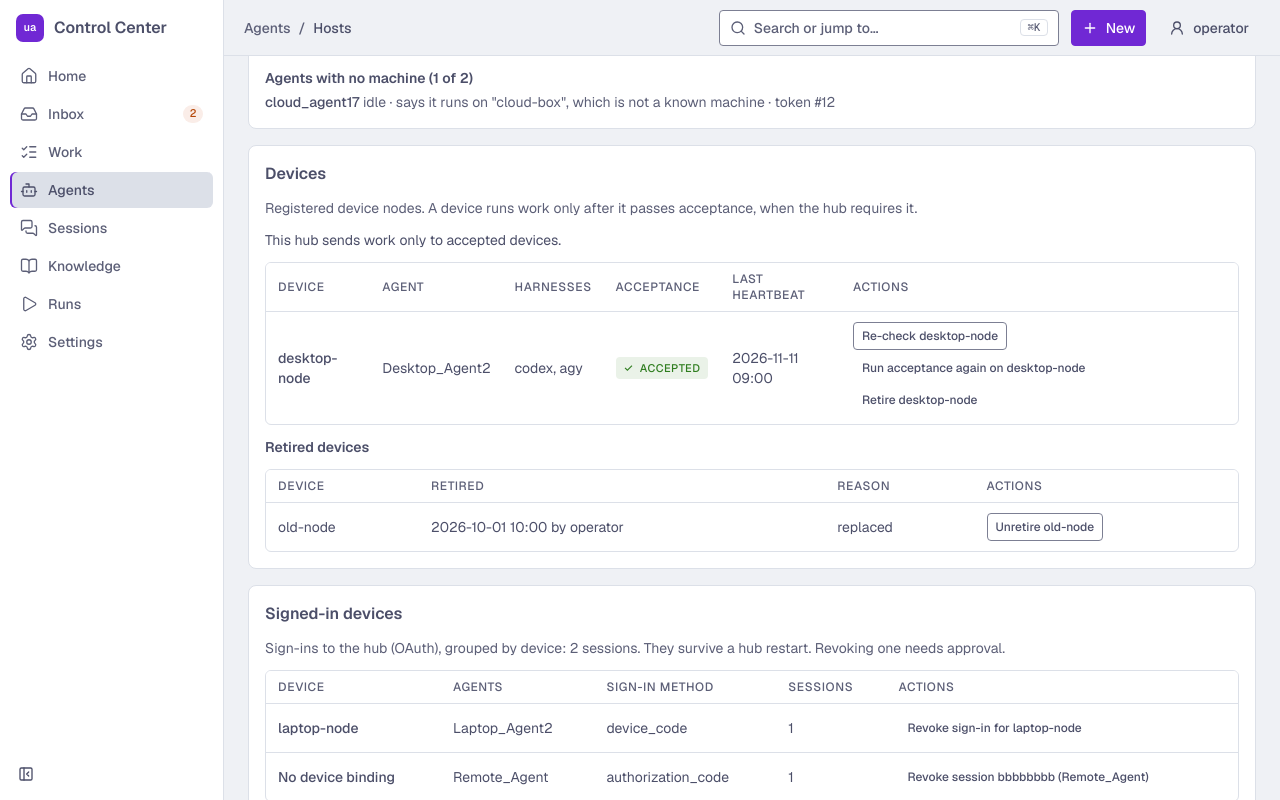
agents: hosts › a refused retire (409, work queued) is explained
(page scrolled)
Click the button "Retire desktop-node" at (920, 400), box [853,386,986,414]
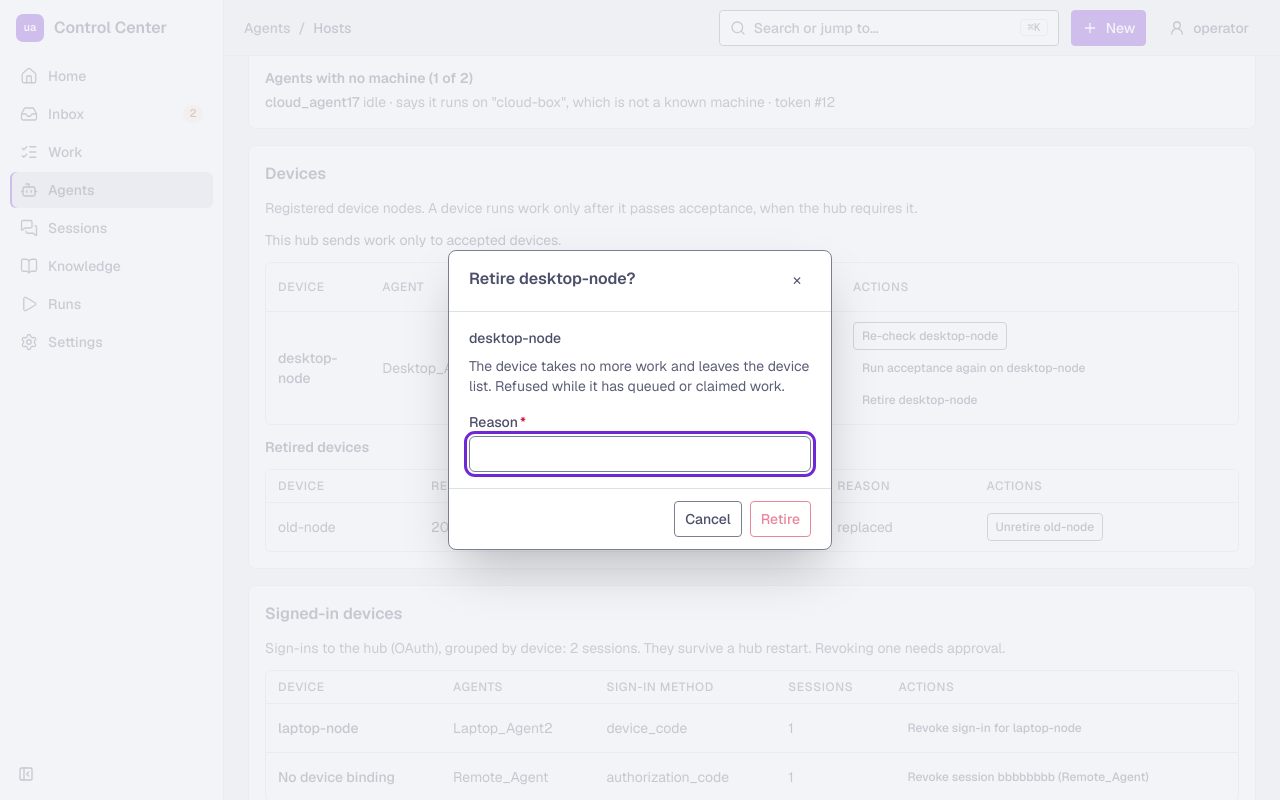
Type "moved" into the field labelled "Reason*" at (640, 454), box [469,436,811,472]
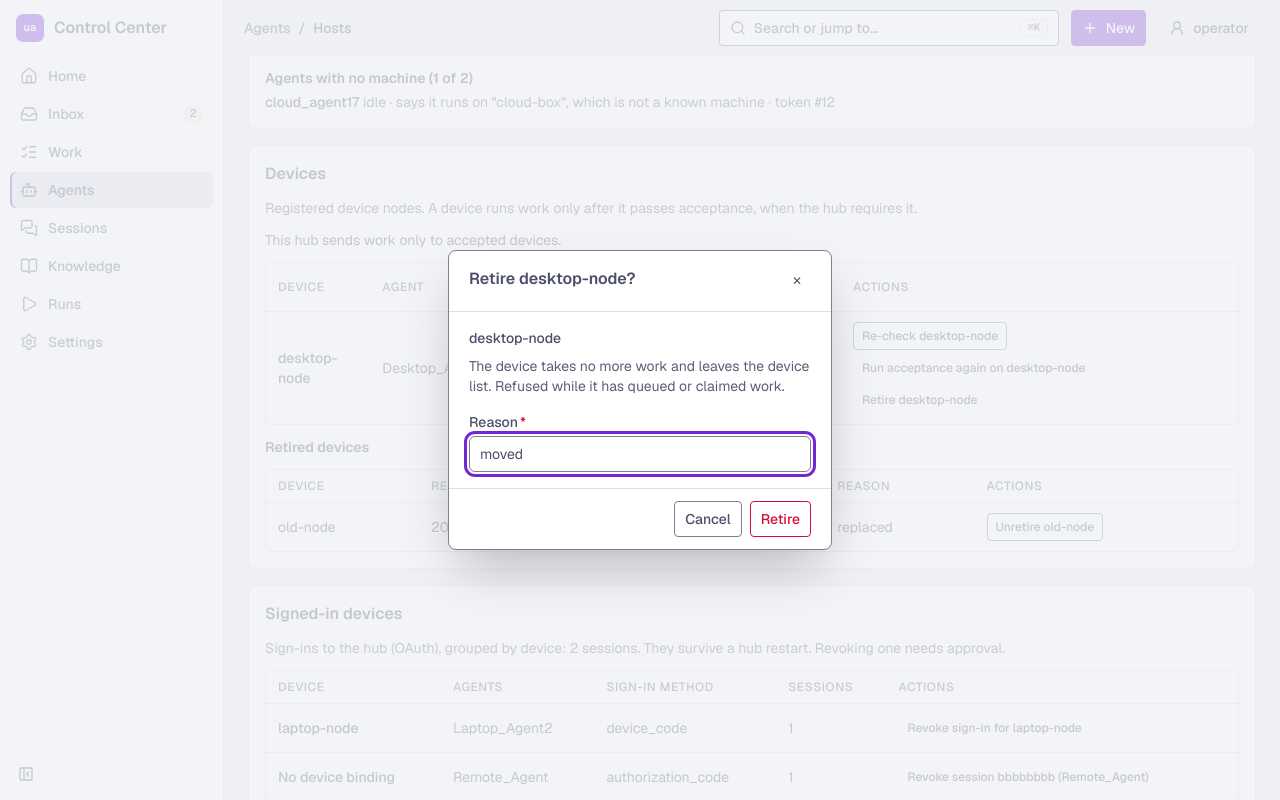
Click the button "Retire" at (780, 519), box [750,501,811,537]
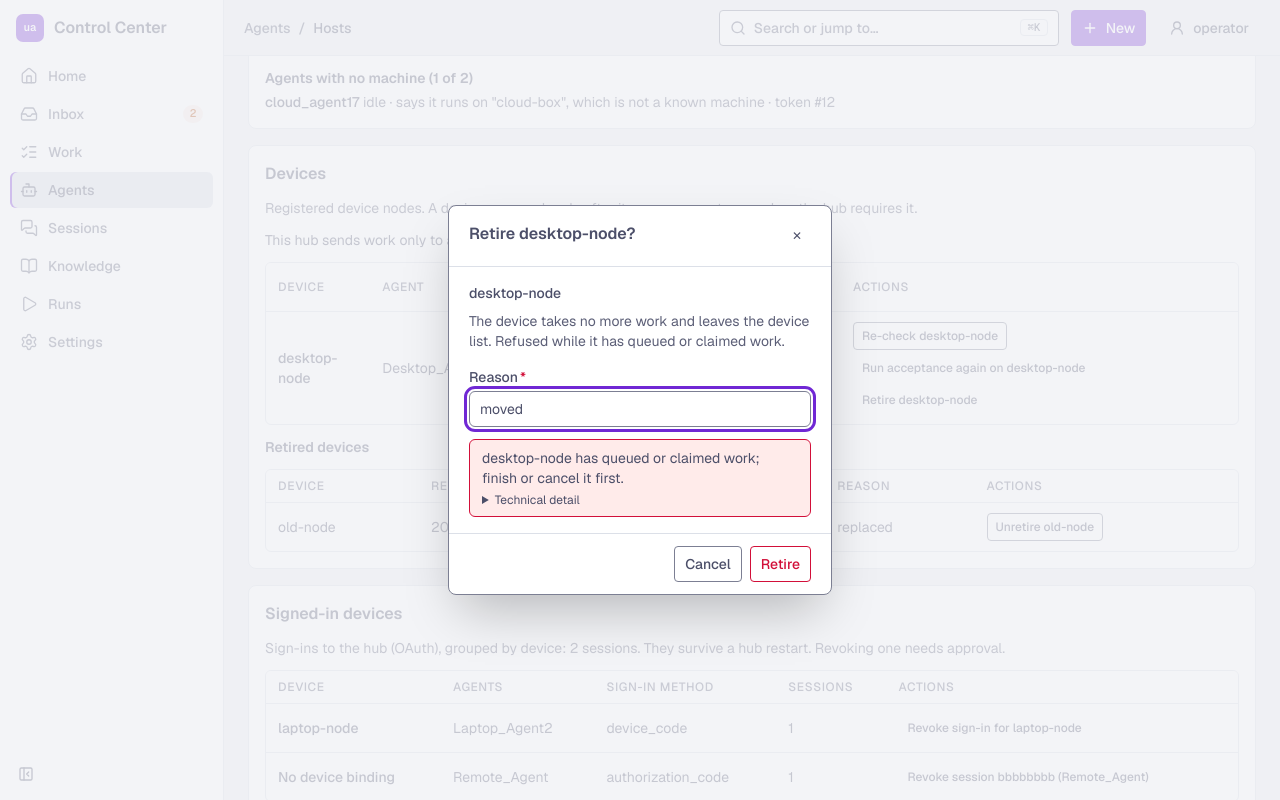
Check: the text "desktop-node has queued or claimed work" is shown, box [482,449,760,487]
